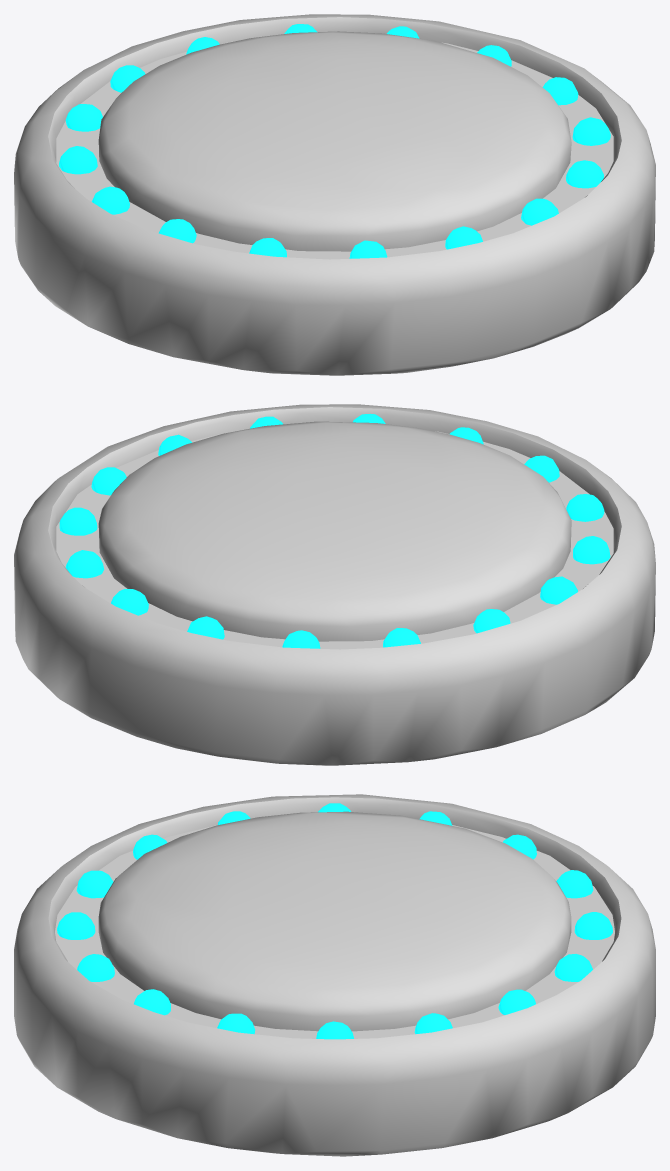
The model's file is nubbin.glb.
The picture shows the model from 3 angles, top to bottom: view 1: azimuth 30°, elevation 25°; view 2: azimuth 150°, elevation 25°; view 3: azimuth 270°, elevation 25°; orthographic projection.
Parts seen in each view (by area): view 1: Nubbin, Spheres; view 2: Nubbin, Spheres; view 3: Nubbin, Spheres.
Boxes of the visible parts, x1,y1,x2,y2 form: Nubbin: [14, 14, 655, 375]; Spheres: [59, 24, 610, 258]; Nubbin: [14, 404, 655, 765]; Spheres: [59, 413, 610, 648]; Nubbin: [14, 794, 655, 1156]; Spheres: [57, 803, 612, 1039].
Size of the model in its own units: 2 by 0.4666 by 2.
